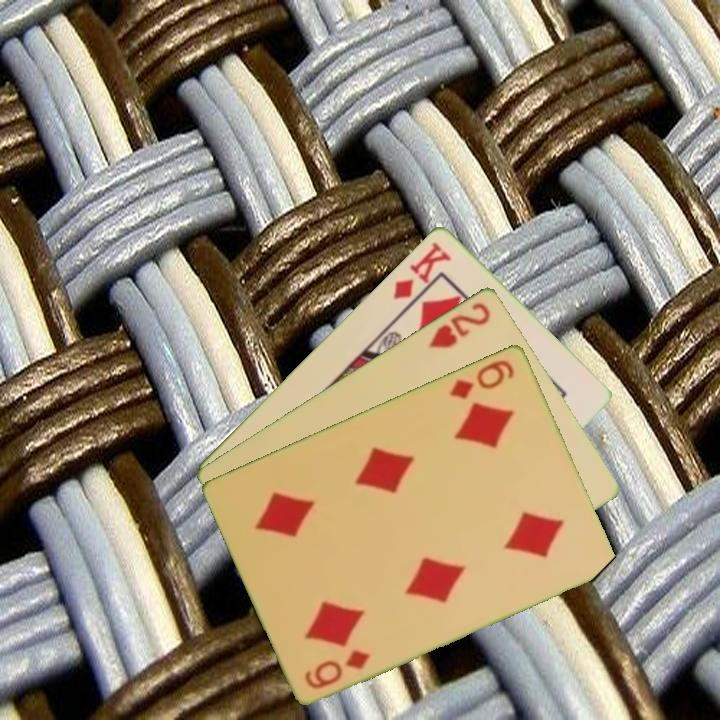2h: (424, 298, 494, 351)
6d: (446, 355, 518, 402), (301, 645, 373, 692)
Kd: (389, 238, 454, 302)
